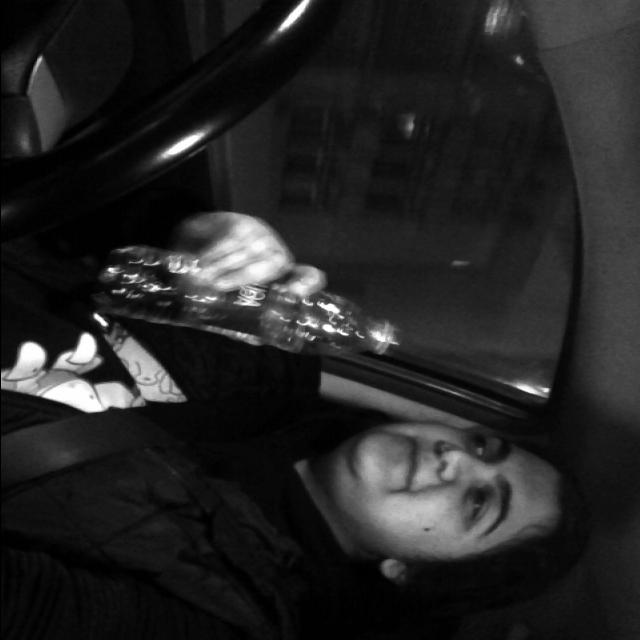drinking: (90, 242, 412, 358)
